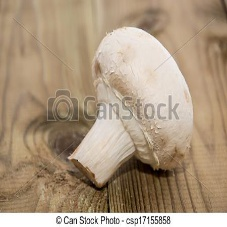mushroom: (66, 23, 196, 190)
